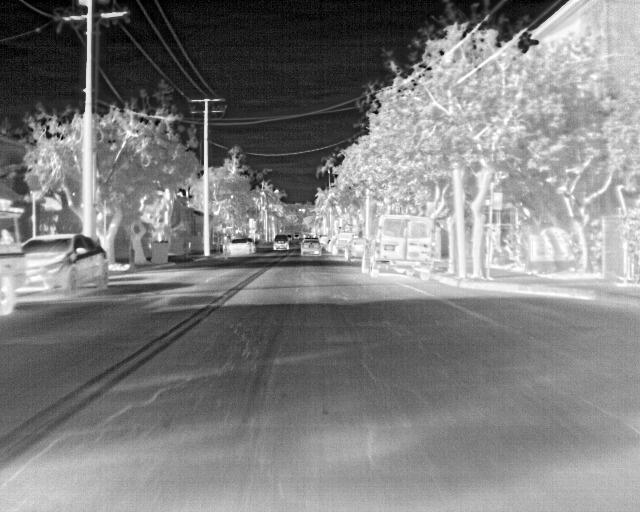car: (19, 235, 110, 300), (360, 213, 435, 282), (1, 226, 24, 317), (342, 234, 361, 260), (227, 237, 250, 257), (301, 237, 320, 257), (271, 234, 289, 253), (330, 234, 345, 255), (244, 238, 256, 254), (320, 233, 333, 244)
